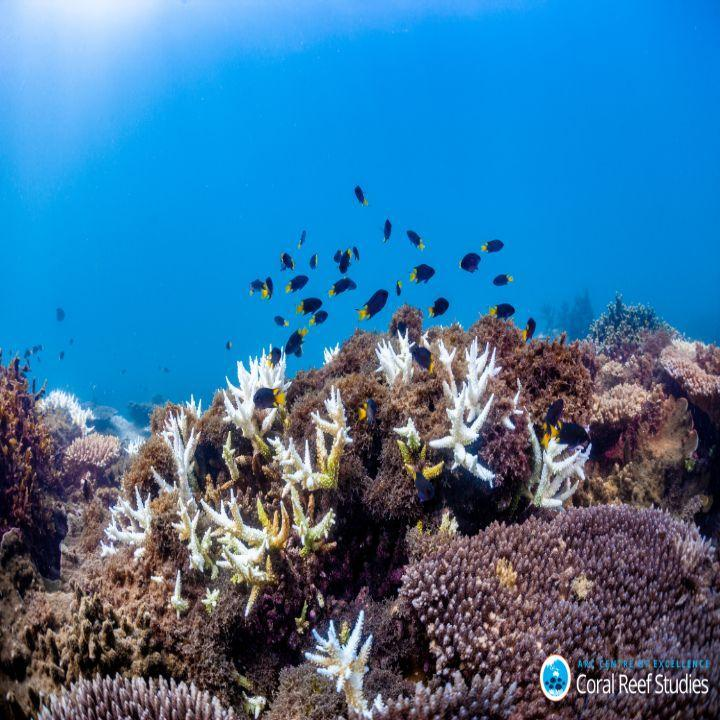Bleached disease: (122, 310, 596, 566)
